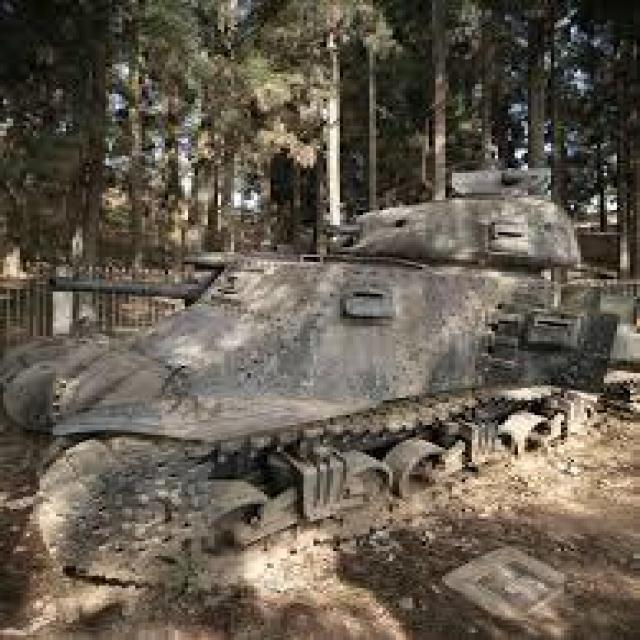MIL_MBT: (58, 179, 622, 520)
